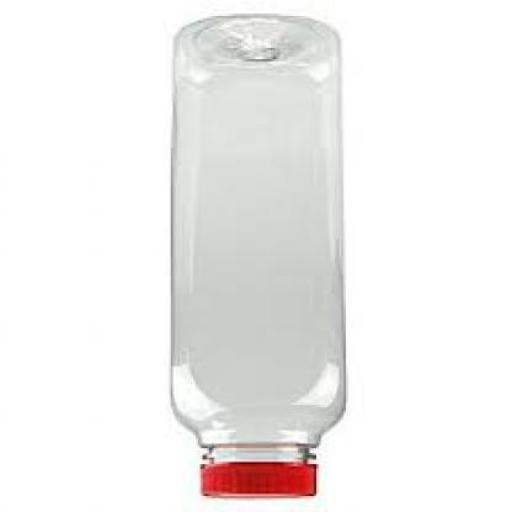plastic: (168, 13, 346, 501), (196, 464, 316, 498)
